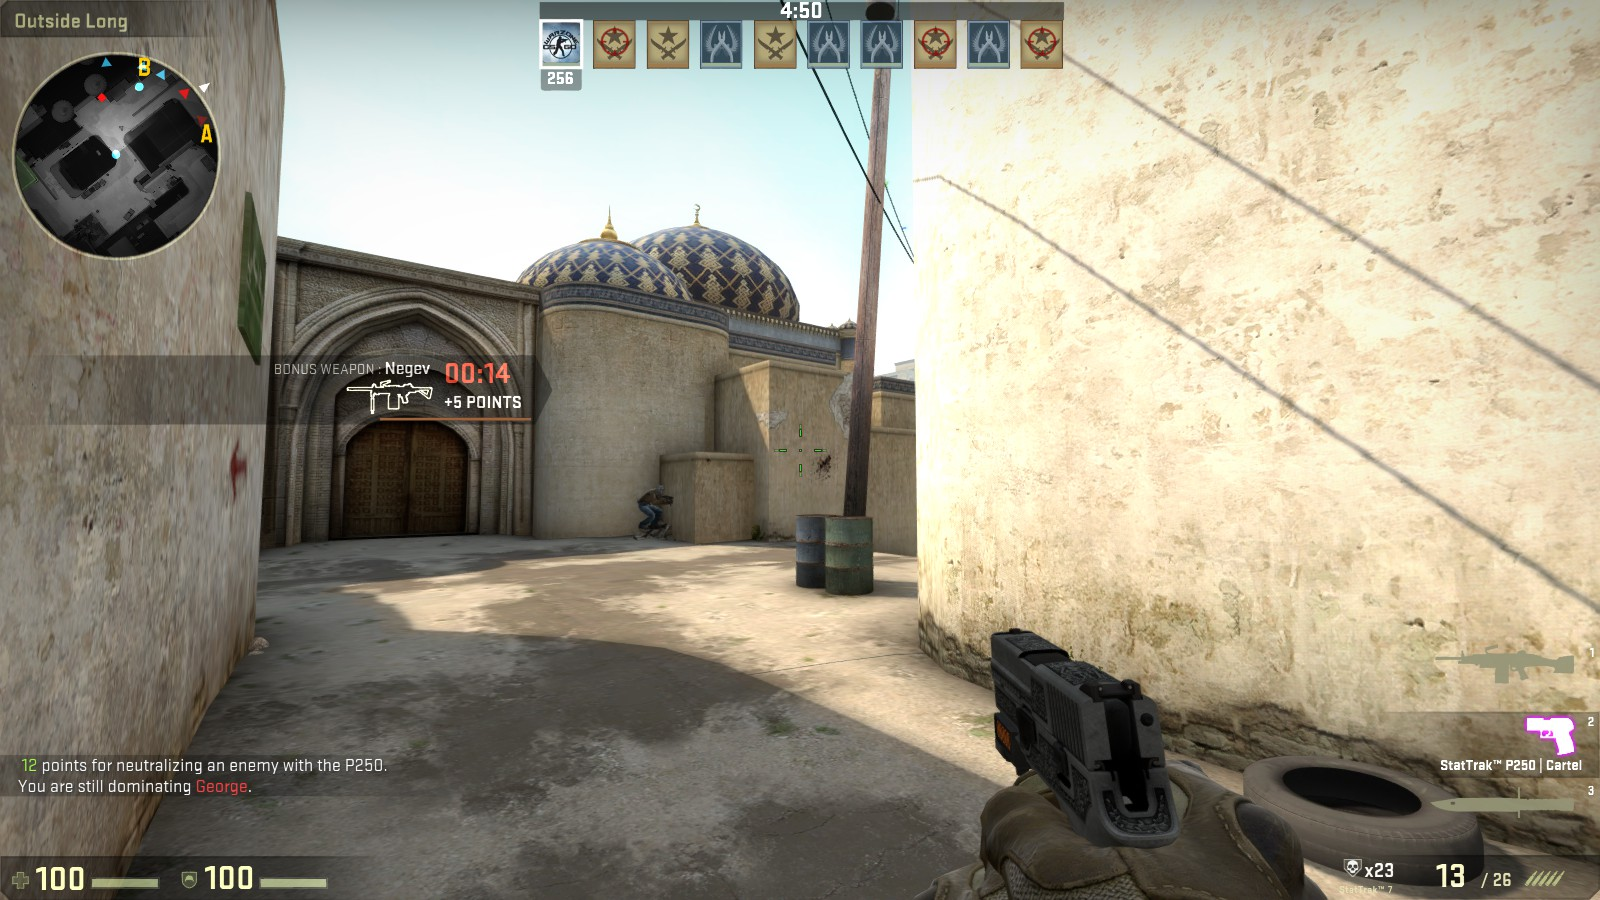t: (636, 481, 668, 529)
th: (654, 484, 665, 496)
